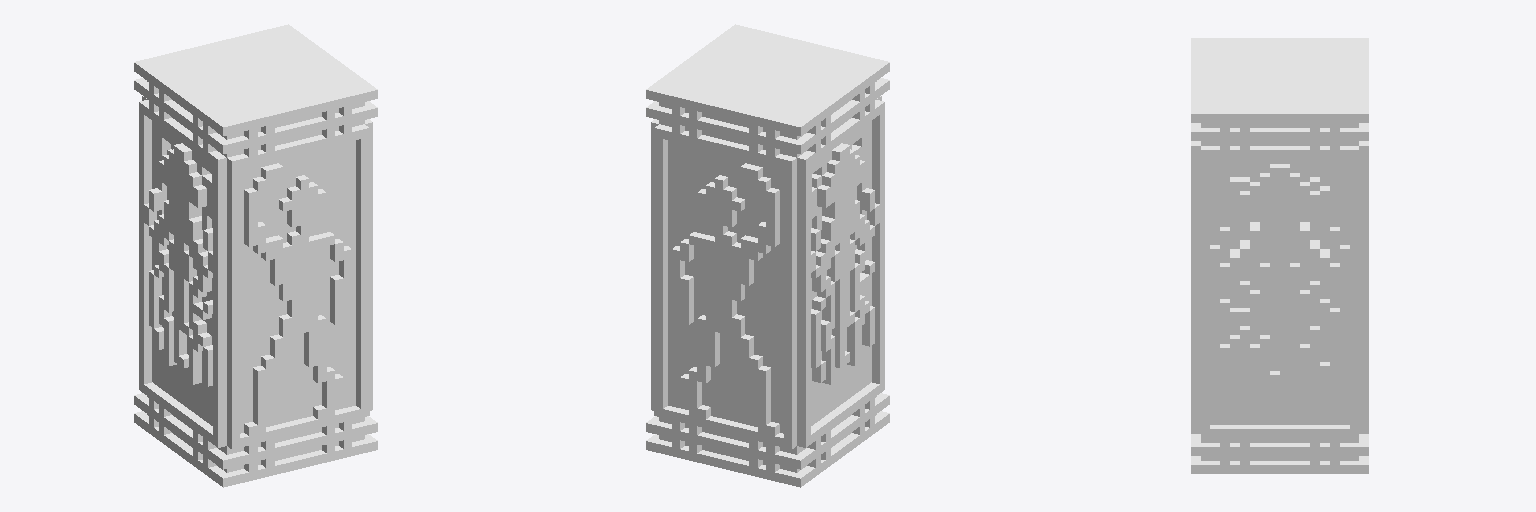
File: Pillar5.obj
The picture shows the model from 3 angles: view 1: azimuth 30°, elevation 25°; view 2: azimuth 150°, elevation 25°; view 3: azimuth 270°, elevation 25°; orthographic projection.
Visible parts, largest first — view 1: object 1; view 2: object 1; view 3: object 1.
Boxes of the visible parts, x1,y1,x2,y2 form: object 1: [134, 24, 377, 487]; object 1: [646, 24, 889, 487]; object 1: [1191, 38, 1368, 473].
Bounding box in the file's own units: 1.8 × 4 × 1.8.